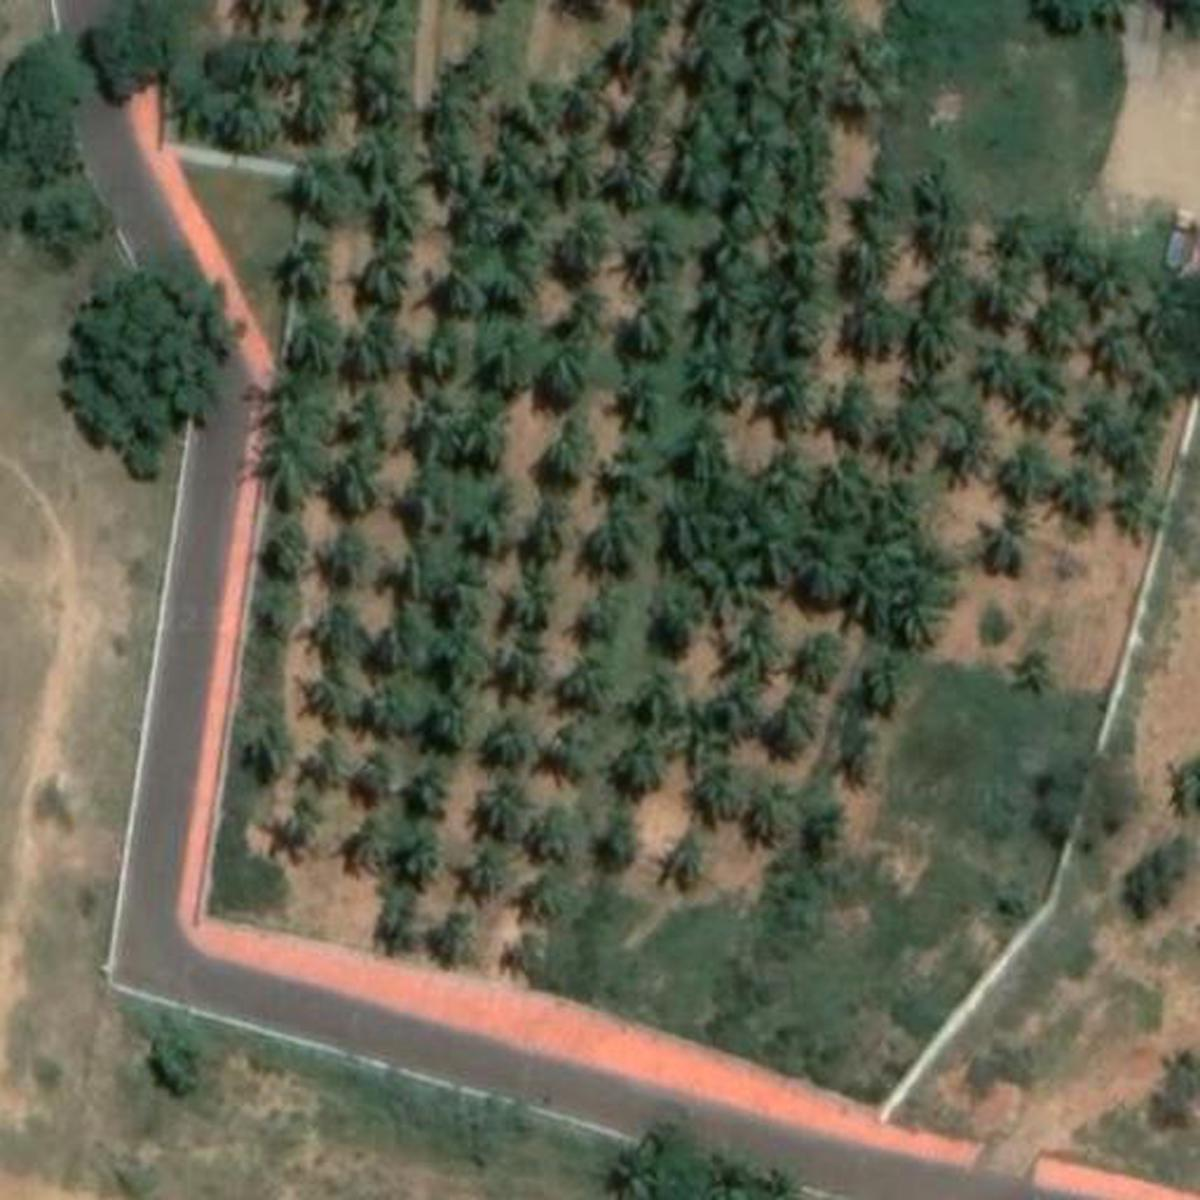coconut: (238, 391, 327, 513), (653, 473, 745, 555), (416, 56, 508, 135), (616, 262, 691, 356), (325, 365, 403, 454), (609, 208, 707, 278), (916, 168, 993, 257), (902, 276, 975, 367), (752, 4, 836, 79), (815, 454, 890, 534), (813, 367, 884, 452), (834, 284, 907, 365), (693, 546, 782, 611), (515, 487, 581, 574), (597, 375, 677, 445), (719, 145, 785, 227), (675, 14, 747, 89), (735, 447, 816, 513), (297, 600, 379, 665), (435, 173, 522, 234), (937, 405, 1010, 478), (307, 658, 379, 731), (454, 389, 529, 459), (346, 302, 407, 389), (278, 60, 344, 140), (667, 114, 724, 205), (433, 251, 527, 304), (543, 208, 611, 281), (686, 696, 754, 766), (778, 541, 851, 607), (349, 11, 424, 75), (878, 581, 956, 642), (700, 251, 766, 321), (670, 400, 735, 471), (609, 131, 675, 199), (766, 257, 836, 321), (973, 513, 1040, 578), (327, 442, 396, 505), (1016, 356, 1078, 426), (684, 335, 757, 393), (548, 124, 614, 189), (1042, 459, 1110, 522), (651, 827, 719, 890), (464, 335, 543, 389), (403, 752, 459, 827), (396, 834, 457, 902), (297, 727, 358, 796), (534, 321, 590, 396), (1113, 482, 1178, 546), (478, 627, 541, 693), (292, 157, 363, 215), (584, 510, 649, 571), (1035, 222, 1099, 285), (525, 803, 584, 871), (846, 208, 900, 281), (344, 243, 410, 302), (808, 37, 867, 103), (276, 309, 342, 367), (426, 673, 485, 738), (410, 607, 478, 663), (757, 698, 820, 757), (1075, 251, 1138, 309), (489, 923, 555, 979), (1071, 400, 1127, 466), (1026, 309, 1092, 365), (977, 255, 1031, 323), (546, 716, 600, 785), (881, 396, 938, 459), (632, 677, 684, 747), (754, 377, 820, 431), (447, 848, 515, 900), (344, 816, 396, 885), (419, 553, 487, 604), (281, 792, 337, 855), (998, 451, 1062, 505), (373, 892, 433, 949), (590, 454, 673, 496), (548, 424, 597, 495), (314, 527, 370, 588), (468, 471, 520, 536), (616, 742, 673, 801), (727, 616, 782, 677), (353, 73, 416, 124), (478, 714, 541, 766), (480, 121, 548, 168), (1108, 419, 1171, 468), (742, 780, 796, 838), (373, 173, 421, 236), (651, 597, 700, 658), (468, 778, 532, 825), (799, 632, 848, 691), (505, 564, 564, 611), (424, 914, 478, 965), (241, 716, 295, 766), (693, 775, 749, 822), (274, 243, 330, 290), (567, 588, 623, 635), (567, 658, 611, 714), (1155, 276, 1200, 330), (970, 344, 1016, 396), (1010, 656, 1057, 705), (1092, 335, 1143, 379)
